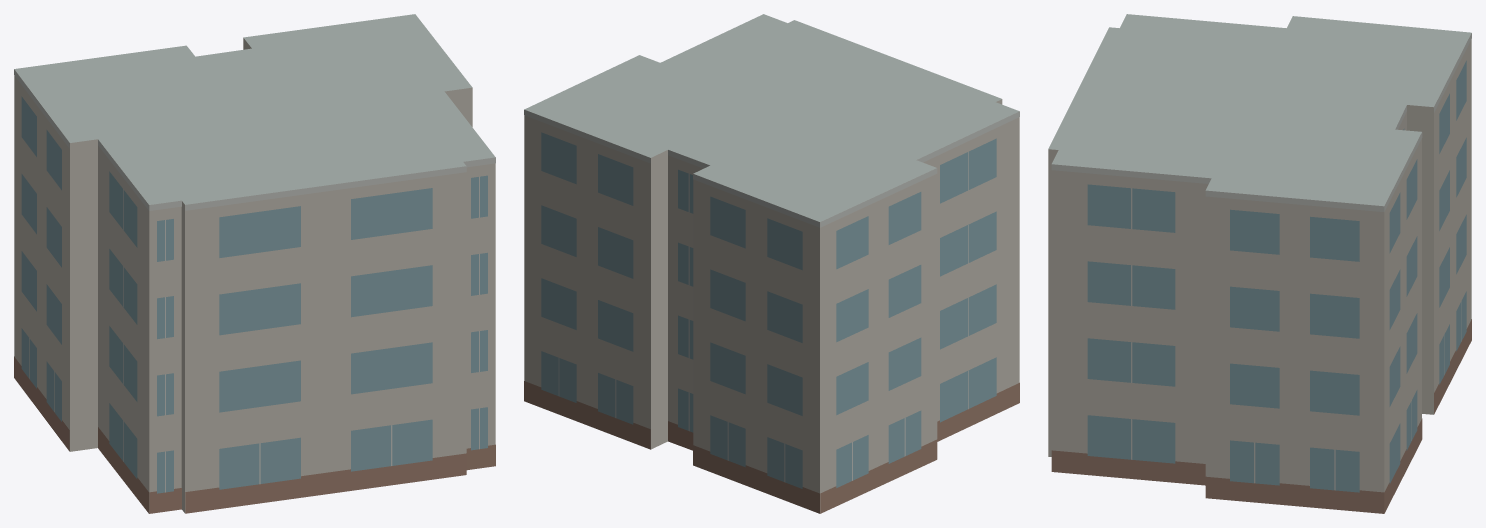
Rendered from survey-upis-32853878.glb.
3 renders of one model, left to right at view 1: azimuth 30°, elevation 25°; view 2: azimuth 150°, elevation 25°; view 3: azimuth 270°, elevation 25°, orthographic. The views are drawn at different scales.
Parts seen in each view (by area): view 1: survey-upis-32853878.tmp; view 2: survey-upis-32853878.tmp; view 3: survey-upis-32853878.tmp.
Part boxes in pixels (bbox=[...]): survey-upis-32853878.tmp: bbox=[14, 14, 495, 513]; survey-upis-32853878.tmp: bbox=[524, 14, 1019, 513]; survey-upis-32853878.tmp: bbox=[1048, 14, 1471, 513].
Size of the model in its own units: 16.98 by 12.66 by 15.81.
